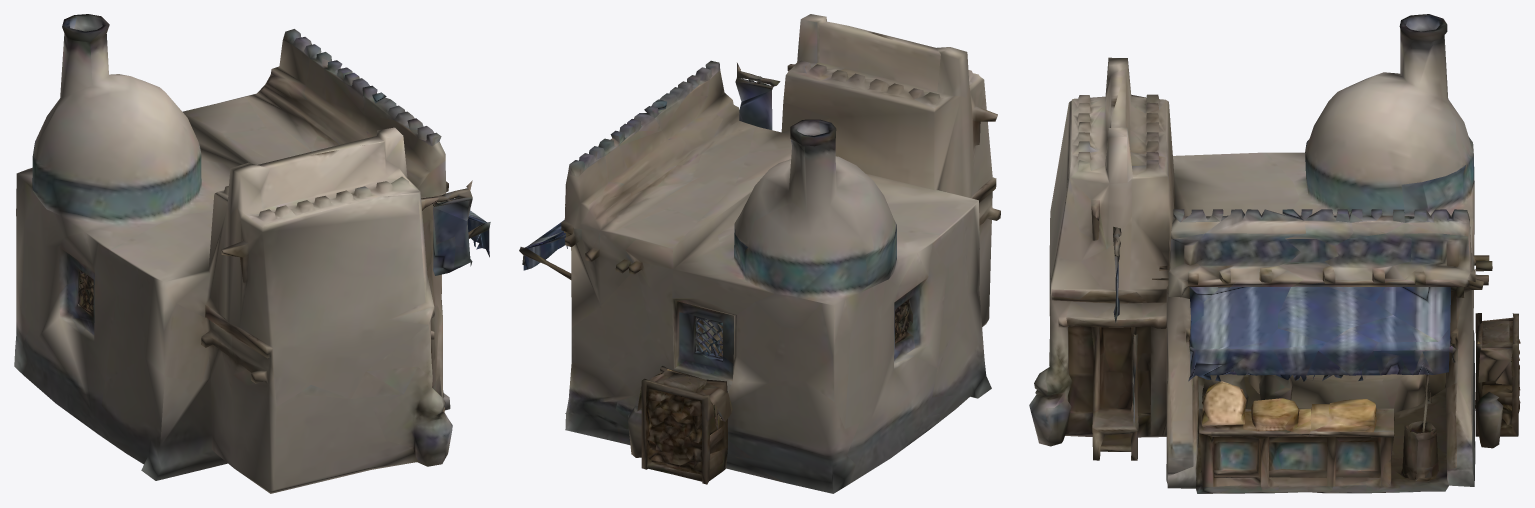
Rendered from bakery.glb.
The picture shows the model from 3 angles, left to right: view 1: azimuth 30°, elevation 25°; view 2: azimuth 150°, elevation 25°; view 3: azimuth 270°, elevation 25°; orthographic projection. The views are drawn at different scales.
Visible parts, largest first — view 1: tripo_node_e4c4c983-c7df-458a-846d-fdc11c4059a0; view 2: tripo_node_e4c4c983-c7df-458a-846d-fdc11c4059a0; view 3: tripo_node_e4c4c983-c7df-458a-846d-fdc11c4059a0.
Boxes of the visible parts, left/top/right/bottom form: tripo_node_e4c4c983-c7df-458a-846d-fdc11c4059a0: left=14, top=14, right=490, bottom=493; tripo_node_e4c4c983-c7df-458a-846d-fdc11c4059a0: left=519, top=14, right=1000, bottom=493; tripo_node_e4c4c983-c7df-458a-846d-fdc11c4059a0: left=1029, top=14, right=1520, bottom=493.
Size of the model in its own units: 0.7993 by 0.7702 by 0.9798.
1 material, 1 textured.
